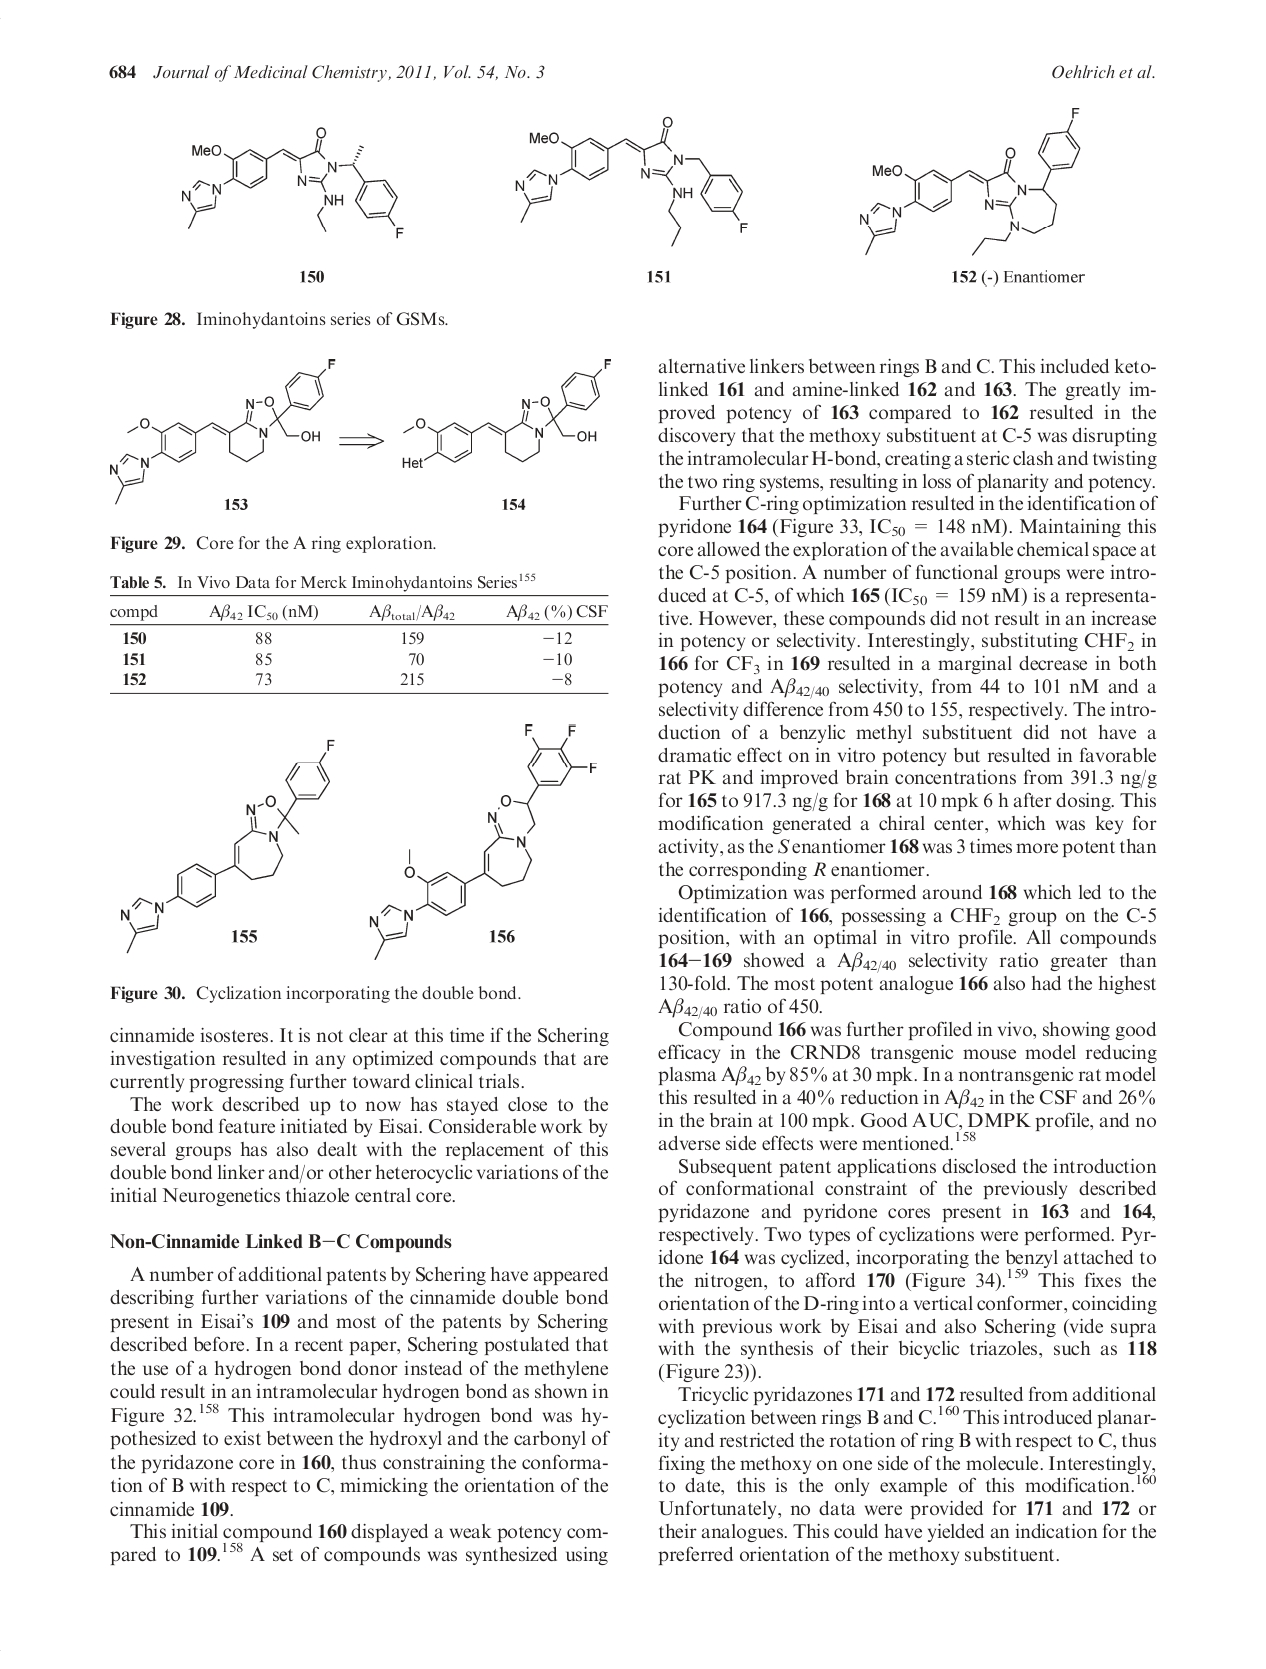exist_molecular: (367, 719, 601, 964), (117, 735, 334, 955), (854, 102, 1085, 255), (104, 354, 340, 503), (512, 110, 750, 250), (178, 120, 415, 246), (394, 354, 617, 480)
